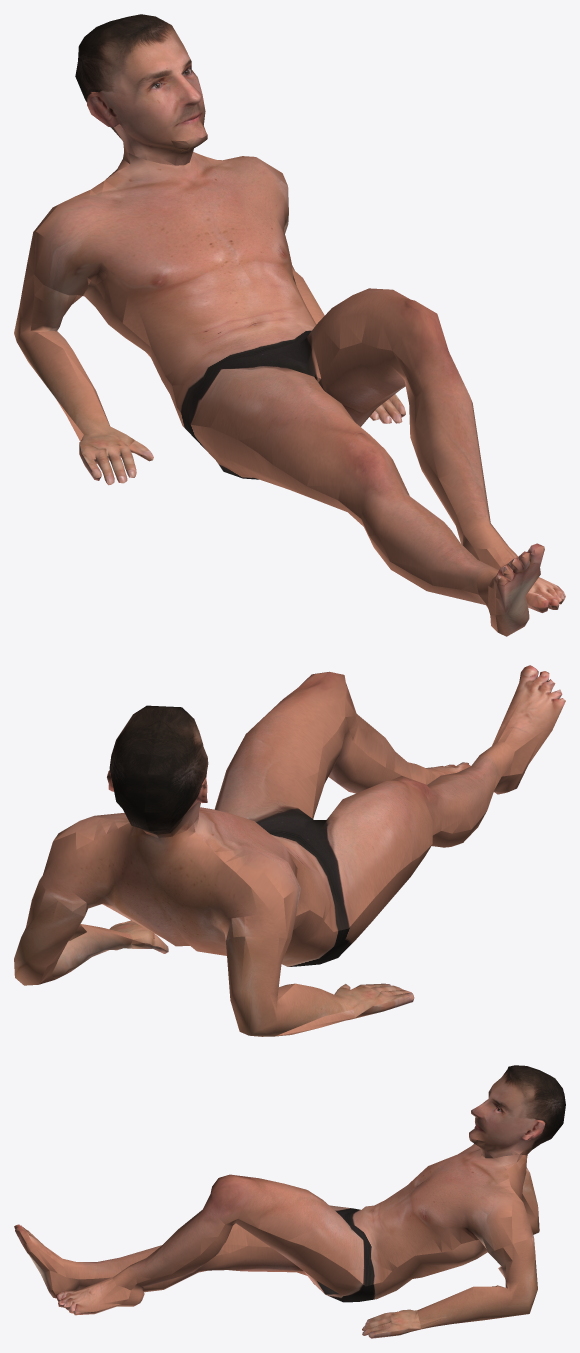
Rendered from man1.FBX.
The picture shows the model from 3 angles, top to bottom: view 1: azimuth 30°, elevation 25°; view 2: azimuth 150°, elevation 25°; view 3: azimuth 270°, elevation 25°; orthographic projection. The views are drawn at different scales.
Visible parts, largest first — view 1: SMan0001-S; view 2: SMan0001-S; view 3: SMan0001-S.
Part boxes in pixels (bbox=[...]): SMan0001-S: bbox=[14, 14, 565, 636]; SMan0001-S: bbox=[14, 665, 565, 1036]; SMan0001-S: bbox=[14, 1065, 565, 1338].
Size of the model in its own units: 0.6498 by 0.7158 by 1.58.
